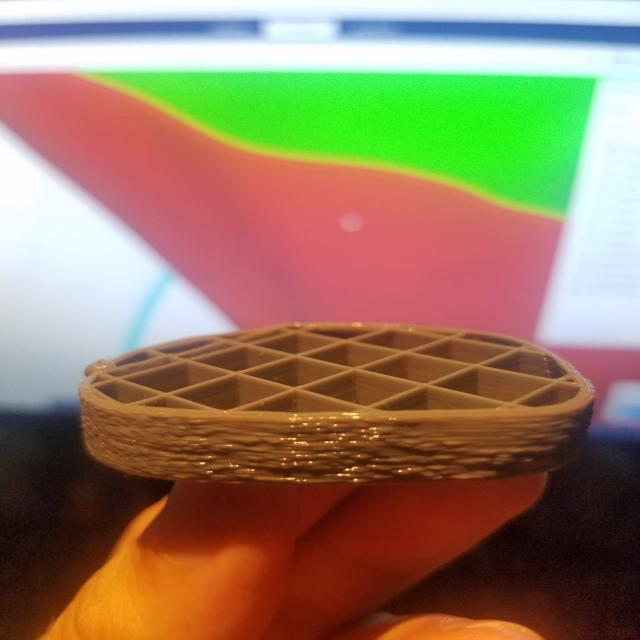blobs: (317, 425, 560, 479), (102, 416, 287, 486)
